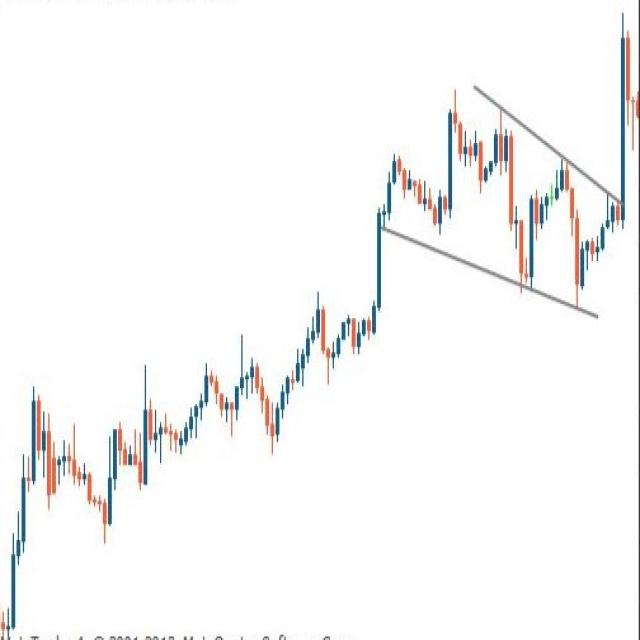Falling-Wedge: (359, 41, 631, 331)
